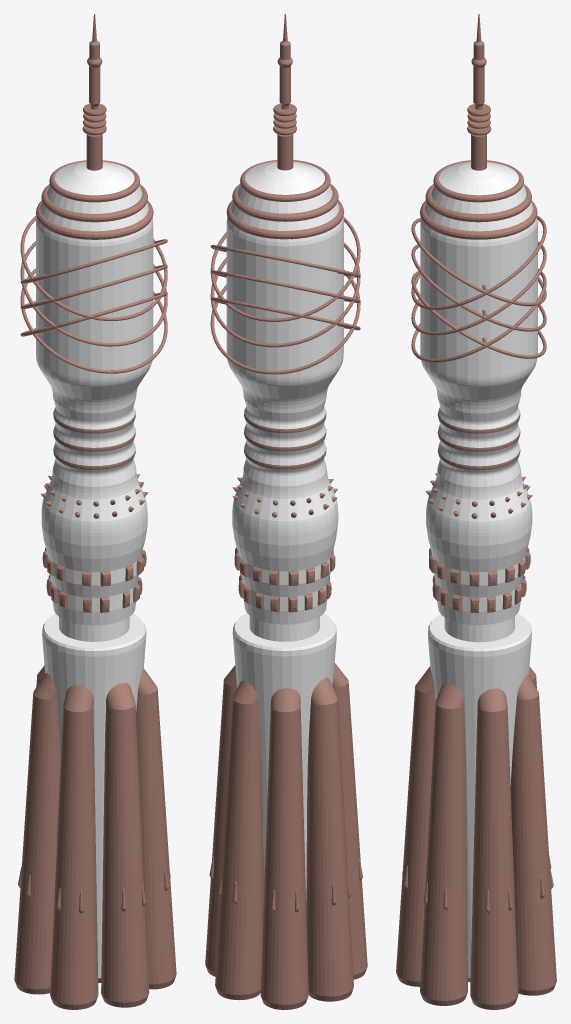
3 views of the same model, side by side, from view 1: azimuth 30°, elevation 25°; view 2: azimuth 150°, elevation 25°; view 3: azimuth 270°, elevation 25° (orthographic).
Parts seen in each view (by area): view 1: Bottom2, Top2, Middle2; view 2: Bottom2, Top2, Middle2; view 3: Bottom2, Top2, Middle2.
Boxes of the visible parts, x1,y1,x2,y2 form: Bottom2: (14, 613, 176, 1009); Top2: (20, 14, 167, 413); Middle2: (41, 397, 148, 625); Bottom2: (205, 613, 367, 1009); Top2: (210, 14, 360, 412); Middle2: (232, 398, 338, 624); Bottom2: (396, 613, 556, 1009); Top2: (411, 14, 546, 413); Middle2: (425, 400, 532, 625).
Bounding box in the file's own units: 12.27 × 80.27 × 12.16.
